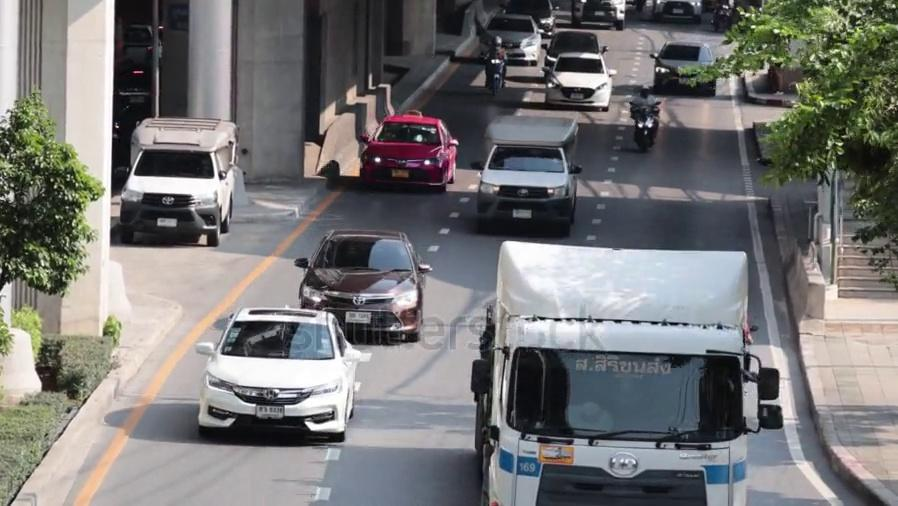rider: (629, 83, 664, 154), (482, 35, 508, 95), (711, 0, 732, 38)
with_helmate: (636, 85, 652, 100), (489, 37, 504, 48)
